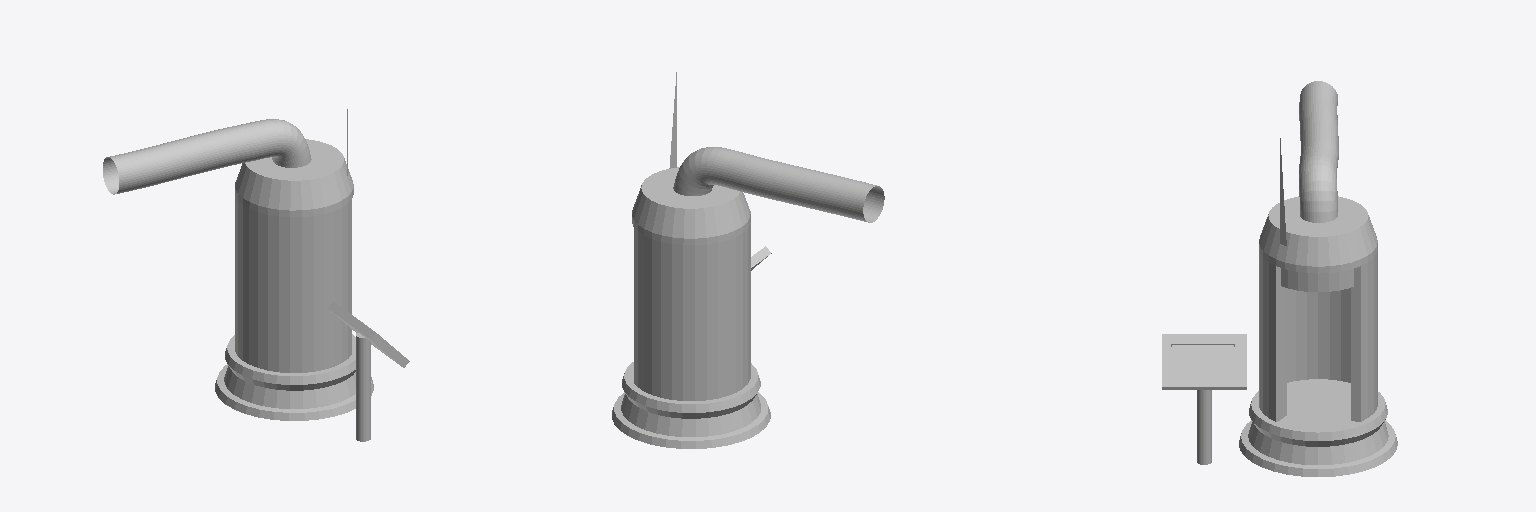
File: cryochamberOpen.obj
The picture shows the model from 3 angles: view 1: azimuth 30°, elevation 25°; view 2: azimuth 150°, elevation 25°; view 3: azimuth 270°, elevation 25°; orthographic projection.
Parts seen in each view (by area): view 1: Cylinder.003, BezierCurve.001, Cylinder.002, Cylinder.001_Cylinder.005, Cube_Cube.001; view 2: Cylinder.003, BezierCurve.001, Cylinder.002; view 3: Cylinder.003, Cylinder.002, BezierCurve.001, Cube_Cube.001, Cube.002_Cube.003, Cylinder, Cylinder.001_Cylinder.005.
Part boxes in pixels (x1,y1,x2,y2): Cylinder.003: (235, 139, 353, 372); BezierCurve.001: (103, 119, 311, 194); Cylinder.002: (215, 334, 373, 420); Cylinder.001_Cylinder.005: (356, 333, 370, 441); Cube_Cube.001: (328, 301, 409, 367); Cylinder.003: (632, 167, 750, 400); BezierCurve.001: (673, 147, 884, 222); Cylinder.002: (612, 362, 770, 448); Cylinder.003: (1259, 196, 1377, 421); Cylinder.002: (1239, 379, 1397, 476); BezierCurve.001: (1299, 81, 1338, 222); Cube_Cube.001: (1162, 334, 1246, 389); Cube.002_Cube.003: (1172, 345, 1233, 378); Cylinder: (1280, 138, 1353, 291); Cylinder.001_Cylinder.005: (1197, 390, 1211, 464).
Size of the model in its own units: 5.38 by 6.97 by 4.35.